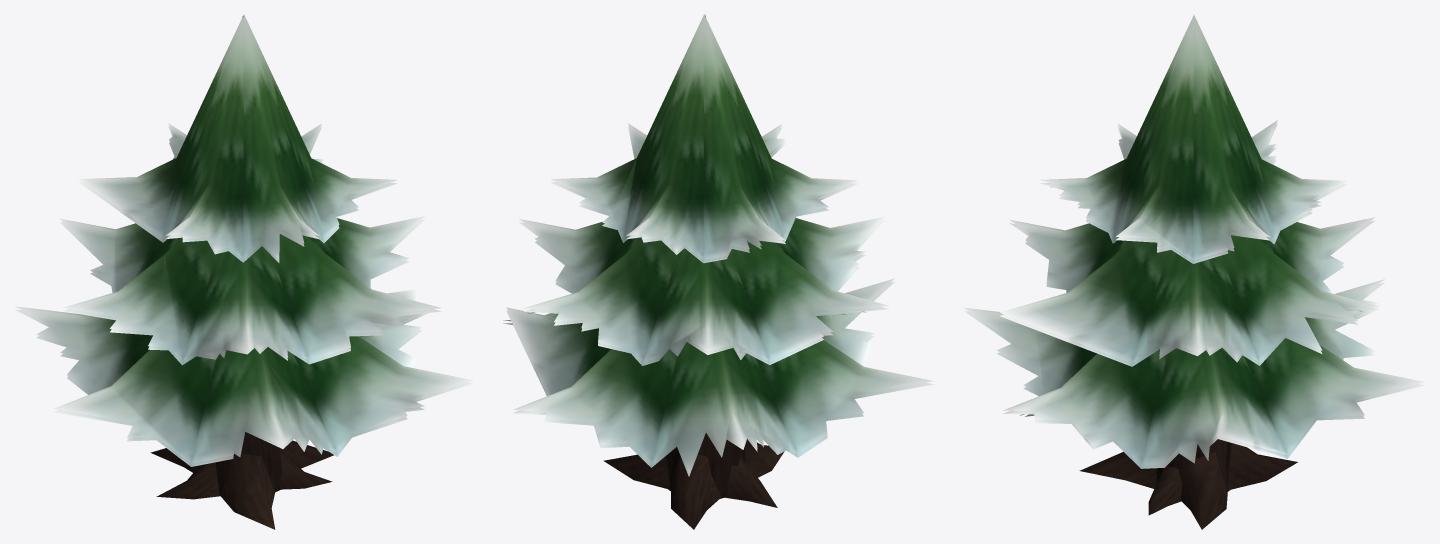
Rendered from SwayingUnlitTree.glb.
The picture shows the model from 3 angles, left to right: view 1: azimuth 30°, elevation 25°; view 2: azimuth 150°, elevation 25°; view 3: azimuth 270°, elevation 25°; orthographic projection.
Visible parts, largest first — view 1: UnlitTree; view 2: UnlitTree; view 3: UnlitTree.
Part boxes in pixels (bbox=[...]): UnlitTree: bbox=[15, 14, 472, 529]; UnlitTree: bbox=[503, 14, 933, 529]; UnlitTree: bbox=[964, 15, 1424, 529].
Size of the model in its own units: 4.41 by 4.88 by 4.35.
Materials: 1 (1 with a texture image).
